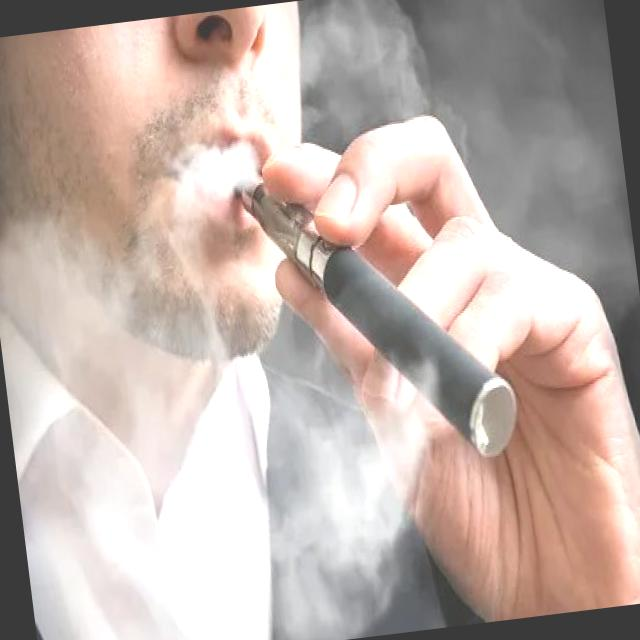cigarette: (230, 137, 524, 490)
